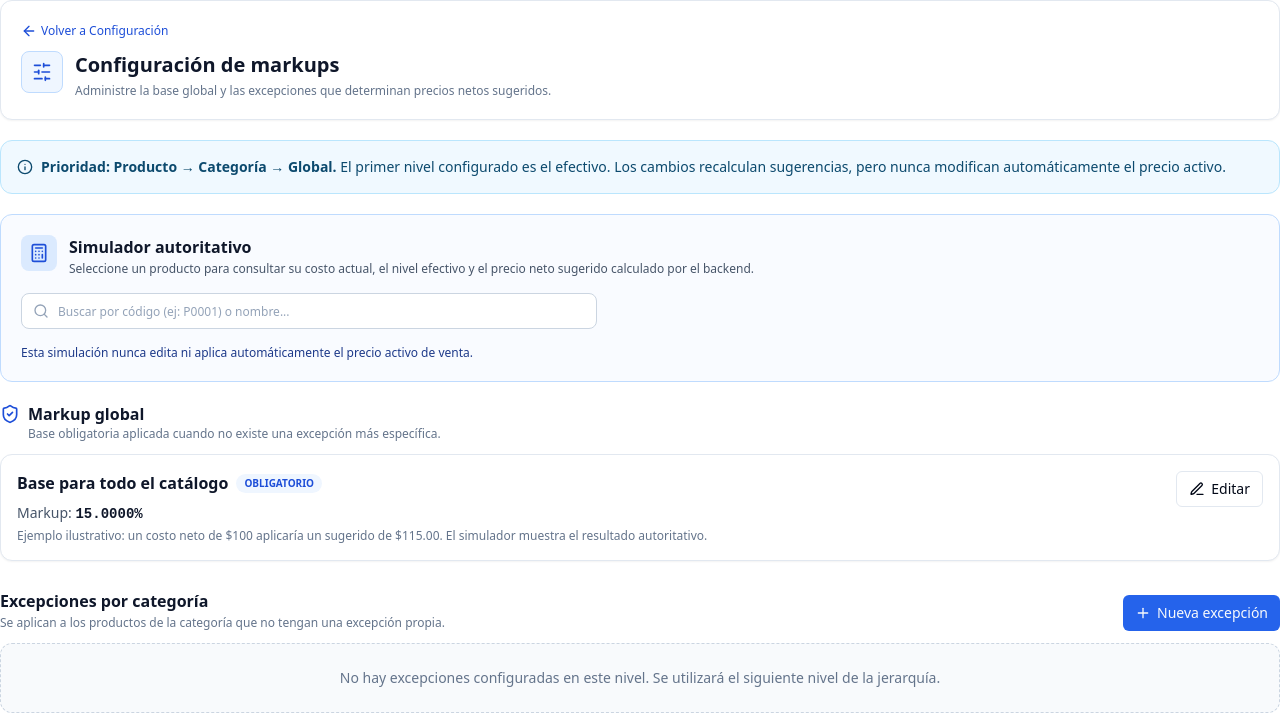
Test: MarkupsPage › edits global markup, sends a canonical string and shows success feedback
The image size is (1280, 720).
Click the button with aria-label "Editar markup de Base" at (1220, 489), box x1=1176 y1=471 x2=1263 y2=507
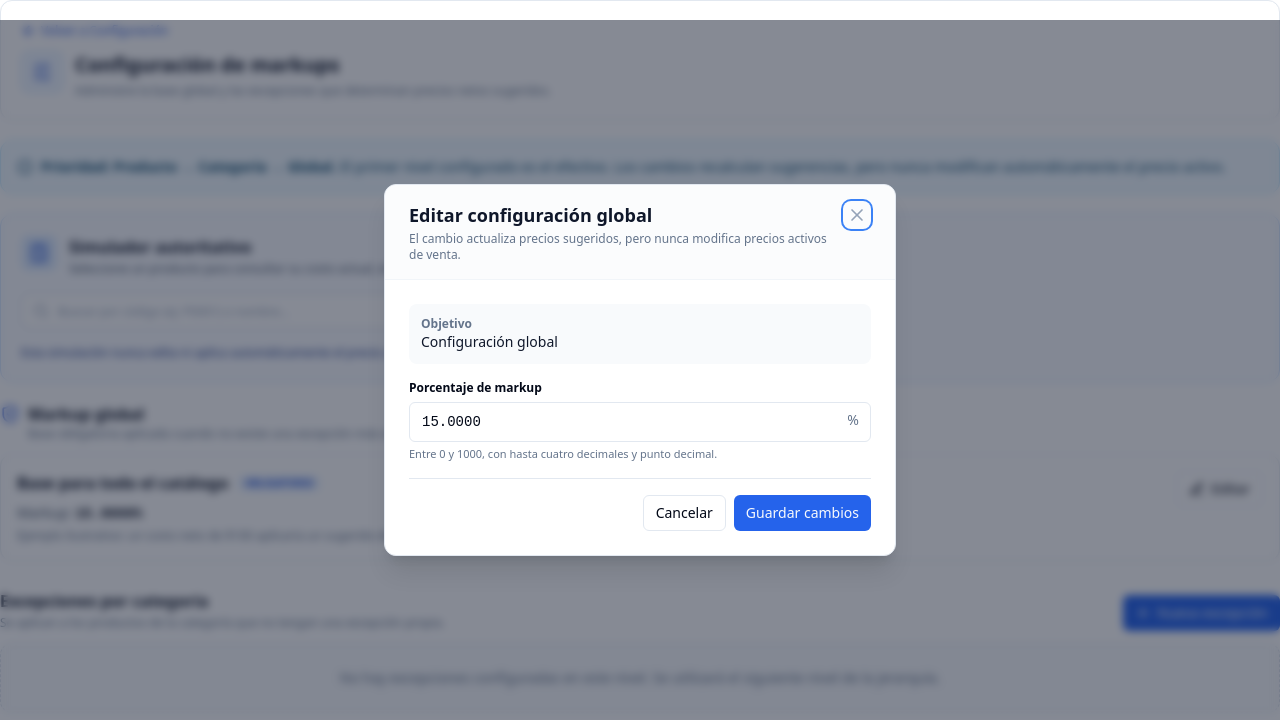
Replace the text in the field labelled "Porcentaje de markup" with "20.25" at (640, 422), box x1=409 y1=402 x2=871 y2=442
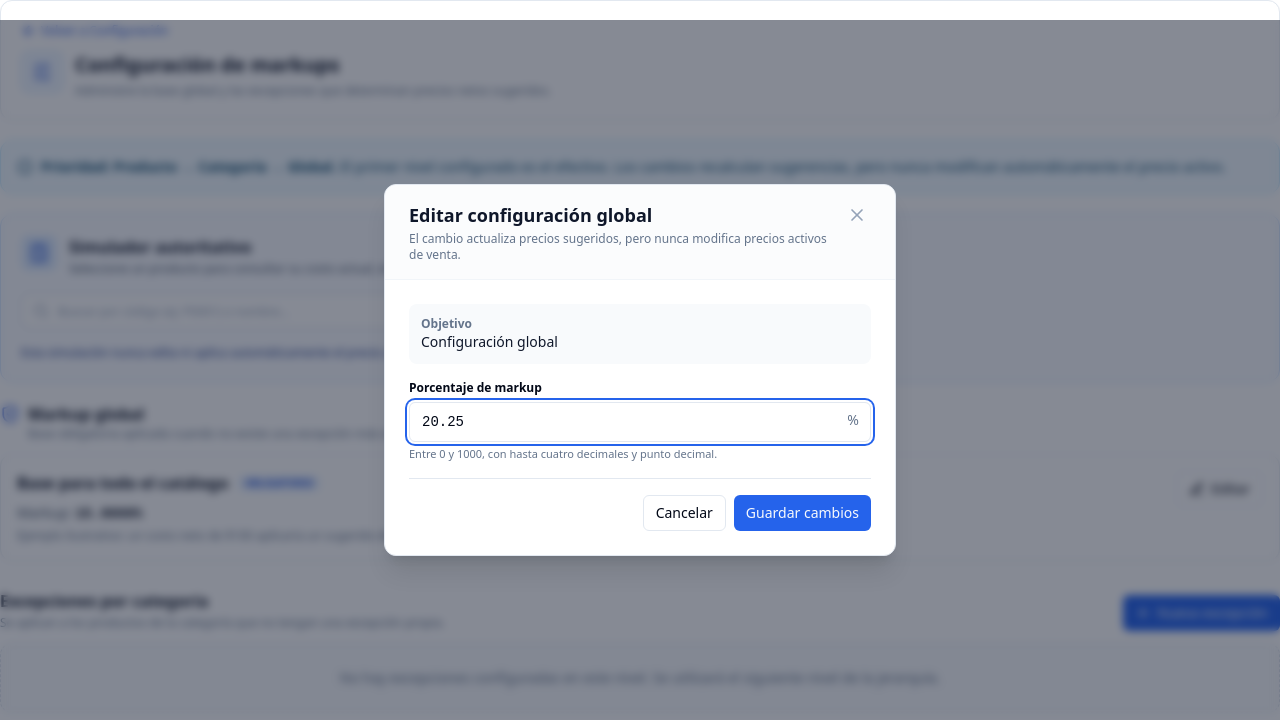
Click the button "Guardar cambios" at (802, 513), box x1=734 y1=495 x2=871 y2=531
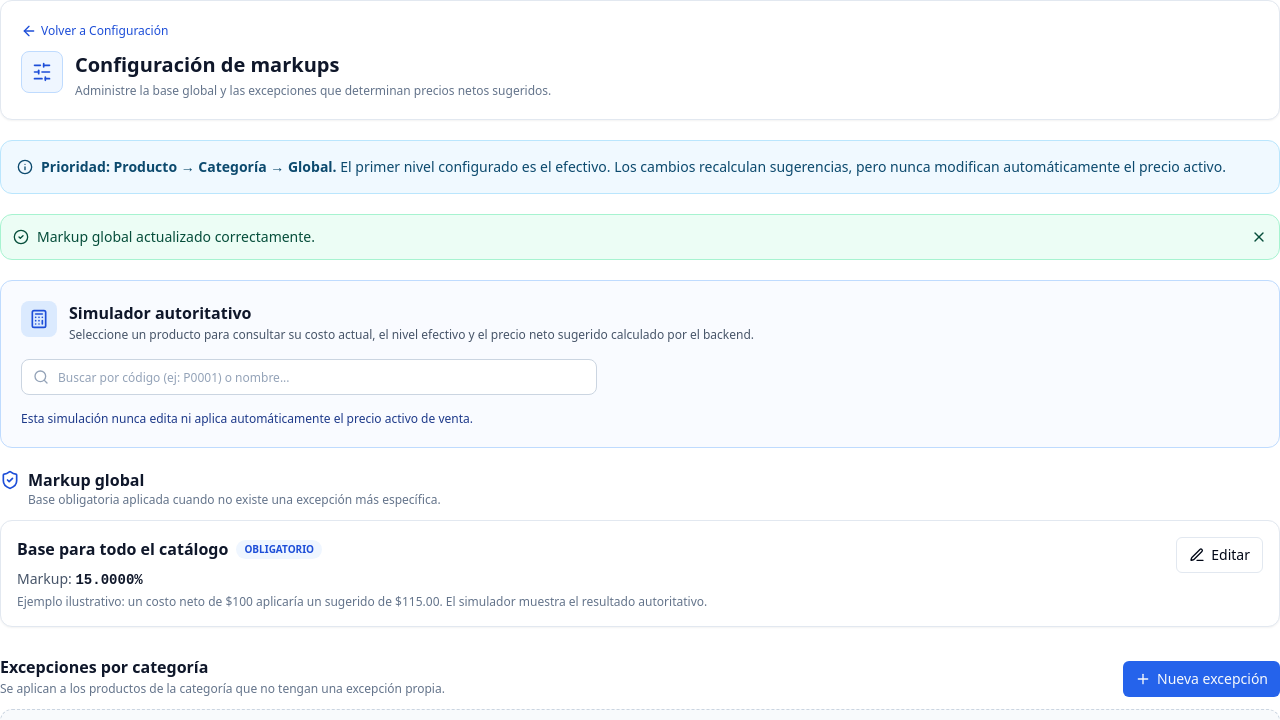
Result: the message shows "actualizado correctamente" at x1=37 y1=227 x2=315 y2=246
